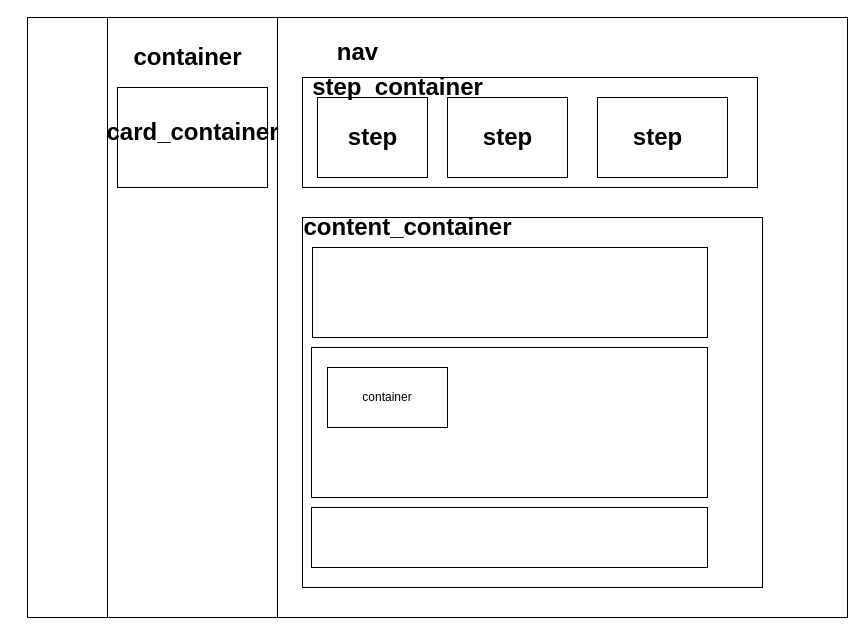
This 865x635 diagram has some shape labels left out. Here are the shapes that lost their labels. From the top down, the centre of each, then its label:
pixel 510 292: Title
pixel 67 317: header
pixel 509 537: btn
